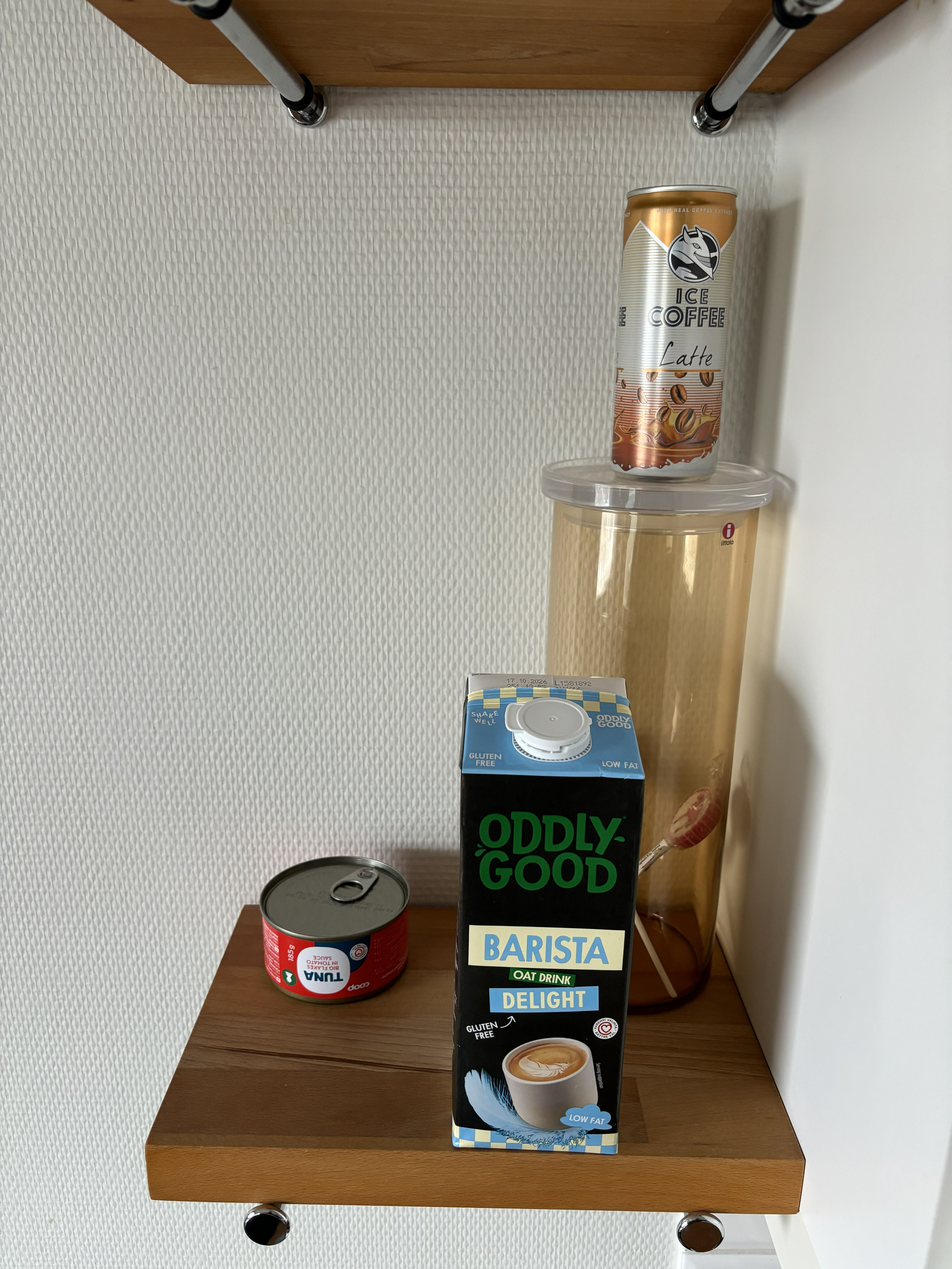Dryckeskartong: (466, 668, 651, 1155)
Konservburk: (254, 856, 415, 1001)
Pantburk: (624, 172, 748, 480)
